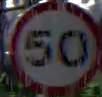Speed limit: (5, 0, 101, 93)
